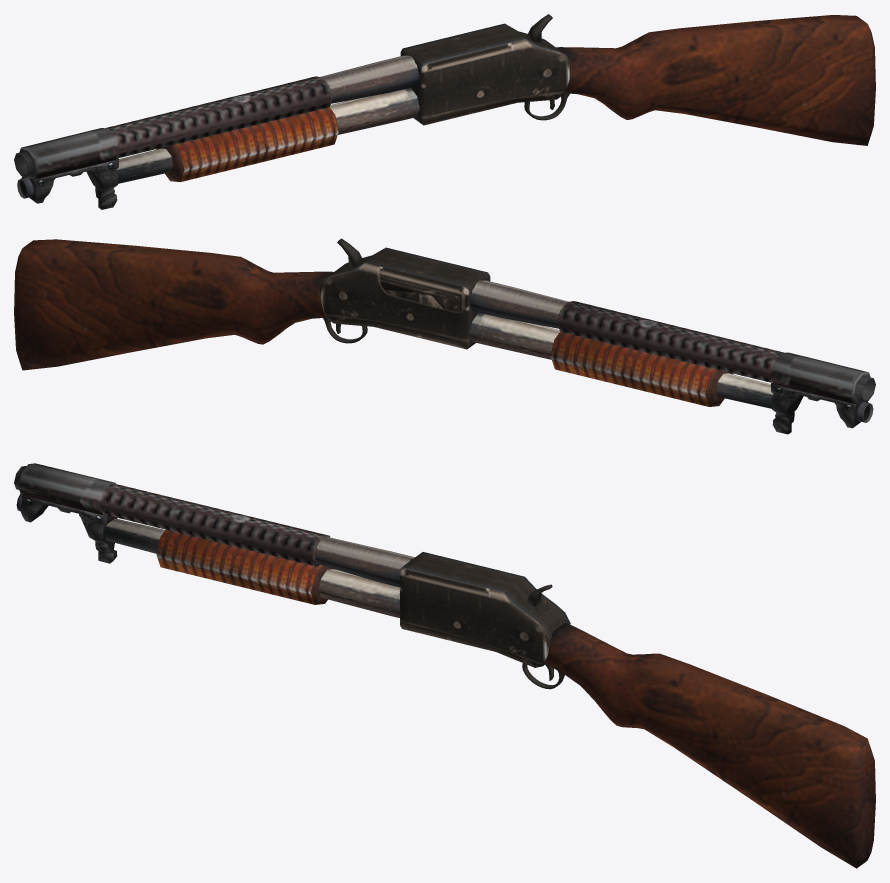
The model's file is TrenchShotty.obj.
The picture shows the model from 3 angles, top to bottom: view 1: azimuth 30°, elevation 25°; view 2: azimuth 150°, elevation 25°; view 3: azimuth 330°, elevation 25°; orthographic projection.
Parts seen in each view (by area): view 1: Handle1; view 2: Handle1; view 3: Handle1.
Boxes of the visible parts, <box> form: Handle1: <box>14,14,875,209</box>; Handle1: <box>14,238,875,434</box>; Handle1: <box>14,463,875,868</box>.
Bounding box in the file's own units: 4.9 × 1.12 × 0.2842.
Materials: 1 (1 with a texture image).
